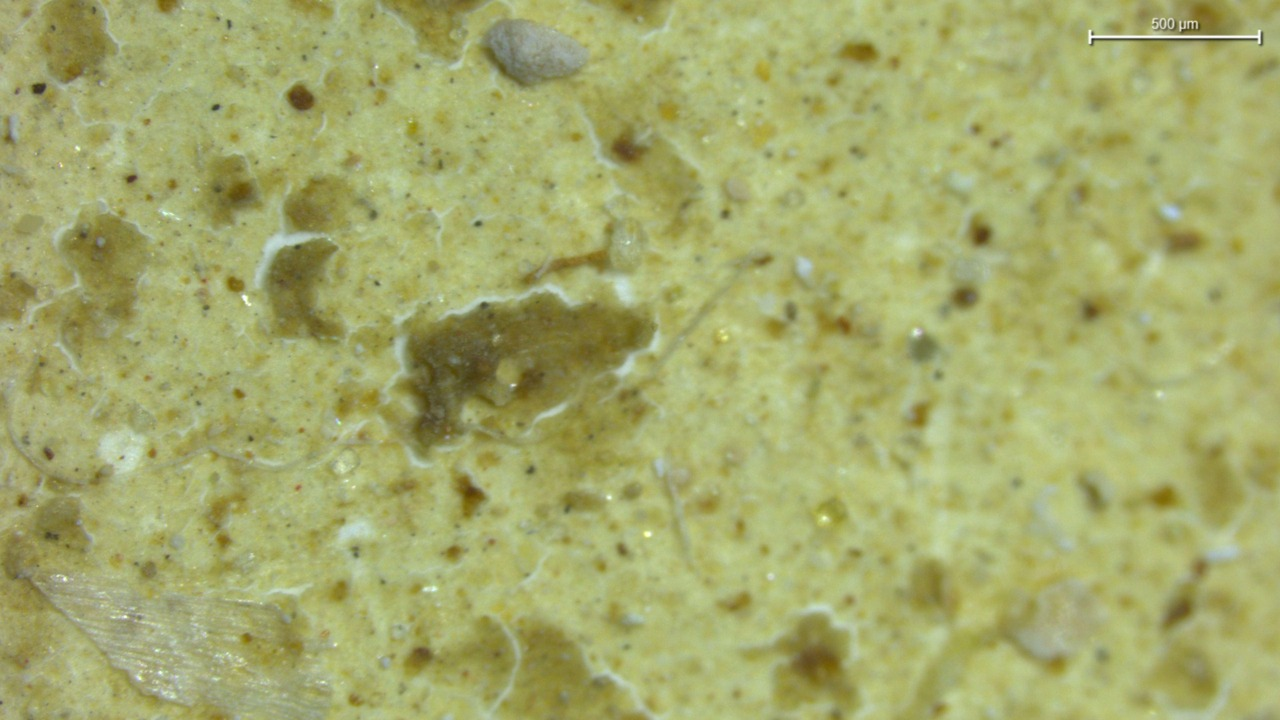microplastic_fragment: (485, 19, 588, 84)
